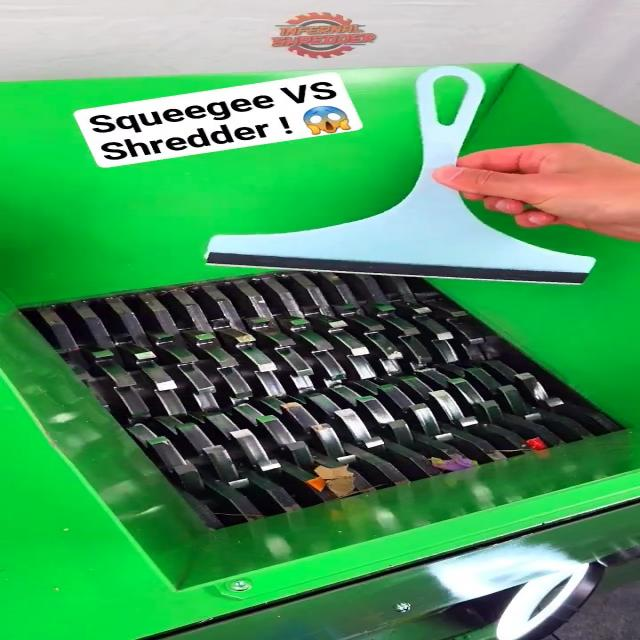Broyeur: (4, 247, 640, 548)
